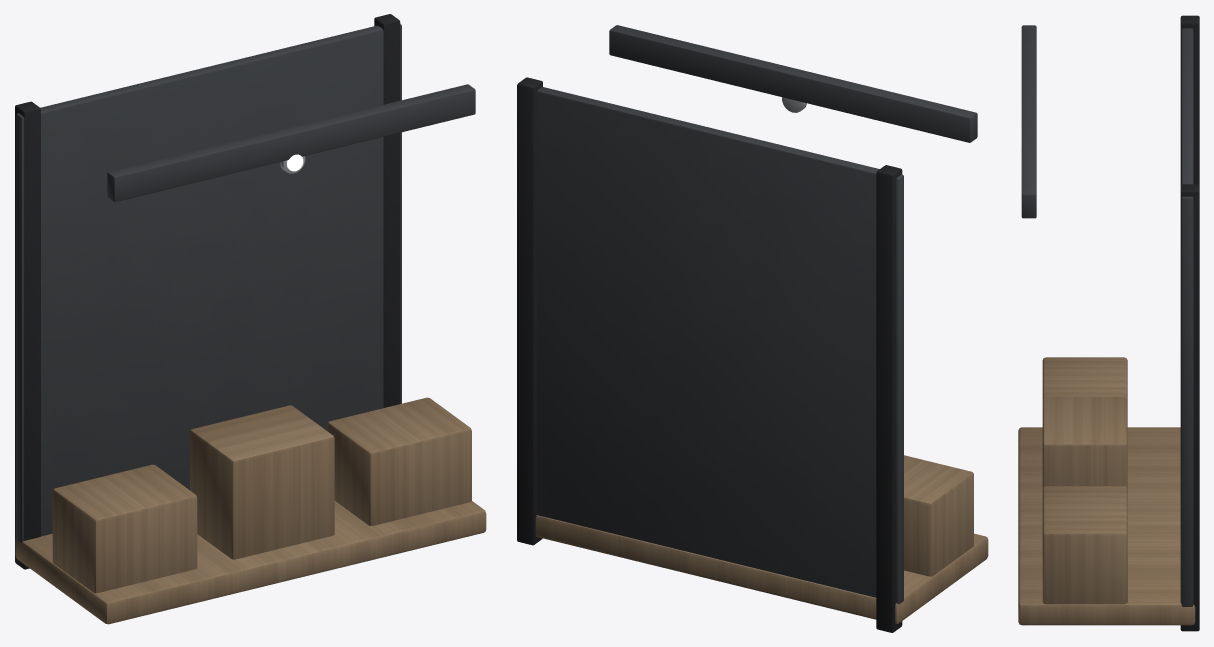
Rendered from pf_display_window_display_t2.glb.
3 views of the same model, side by side, from view 1: azimuth 30°, elevation 25°; view 2: azimuth 150°, elevation 25°; view 3: azimuth 270°, elevation 25° (orthographic). The views are drawn at different scales.
Parts seen in each view (by area): view 1: Window_Backdrop, Display_Plinth_02, Window_Display_Platform, Display_Plinth_01, Display_Plinth_03, Header_Back, Window_Frame_-0.73, Window_Frame_+0.73; view 2: Window_Backdrop, Header_Back, Window_Display_Platform, Window_Frame_-0.73, Window_Frame_+0.73, Display_Plinth_01; view 3: Window_Display_Platform, Display_Plinth_03, Display_Plinth_02, Window_Backdrop, Window_Frame_+0.73, Display_Plinth_01, Header_Back, Window_Frame_-0.73.
Part boxes in pixels (x1,y1,x2,y2): Window_Backdrop: [16, 24, 401, 542]; Display_Plinth_02: [190, 405, 334, 559]; Window_Display_Platform: [15, 501, 486, 624]; Display_Plinth_01: [52, 464, 197, 593]; Display_Plinth_03: [327, 397, 471, 525]; Header_Back: [107, 84, 475, 201]; Window_Frame_-0.73: [15, 101, 40, 569]; Window_Frame_+0.73: [374, 14, 400, 407]; Window_Backdrop: [537, 87, 903, 604]; Header_Back: [609, 25, 977, 142]; Window_Display_Platform: [535, 515, 988, 623]; Window_Frame_-0.73: [876, 165, 902, 632]; Window_Frame_+0.73: [517, 77, 542, 545]; Display_Plinth_01: [904, 455, 973, 576]; Window_Display_Platform: [1018, 427, 1195, 625]; Display_Plinth_03: [1042, 486, 1127, 604]; Display_Plinth_02: [1042, 397, 1127, 488]; Window_Backdrop: [1181, 28, 1193, 606]; Window_Frame_+0.73: [1180, 184, 1199, 631]; Display_Plinth_01: [1042, 357, 1127, 399]; Header_Back: [1021, 25, 1036, 218]; Window_Frame_-0.73: [1180, 15, 1199, 184].
Size of the model in its own units: 1.55 by 1.78 by 0.665.
6 materials, 3 textured.
